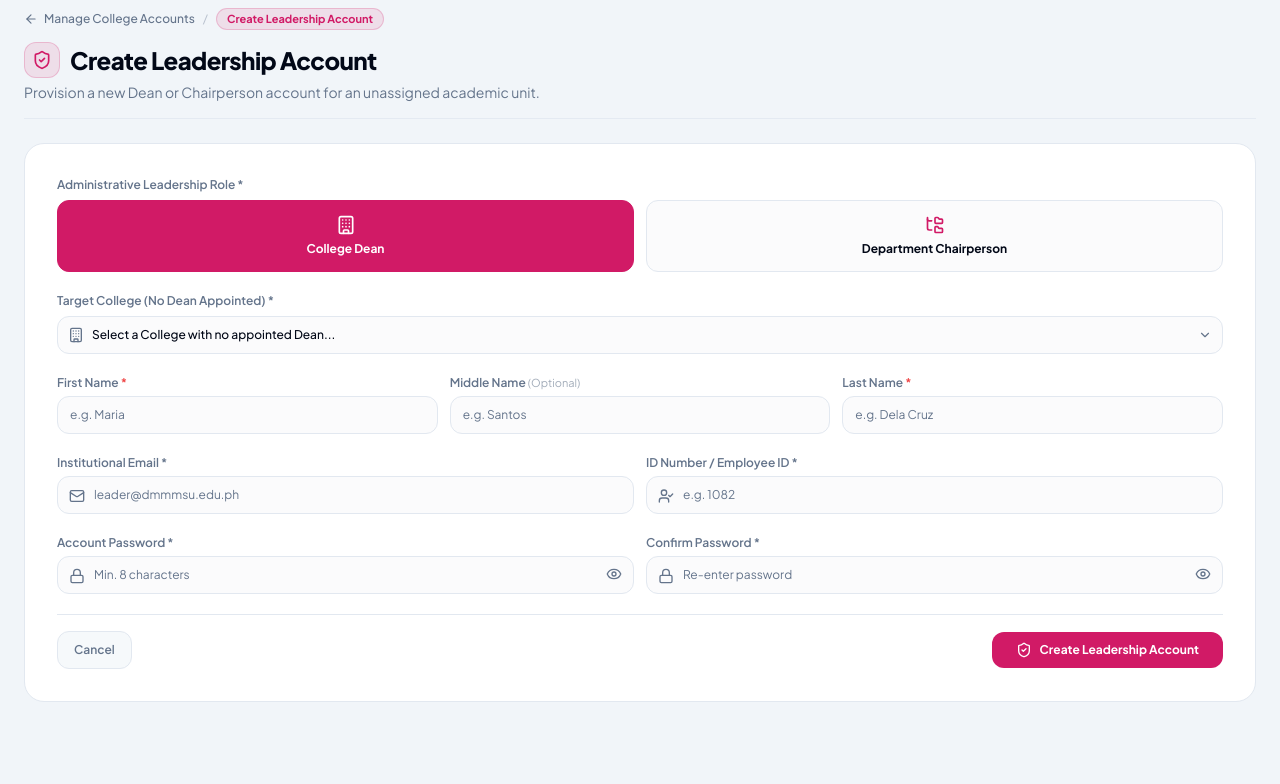
CreateLeadershipAccountPage › validates required fields before submitting
The image size is (1280, 784).
What coordinates should you click on to do the following:
click the button "Create Leadership Account"
I would click on:
 (1107, 650)
Its box is [992, 632, 1223, 668].
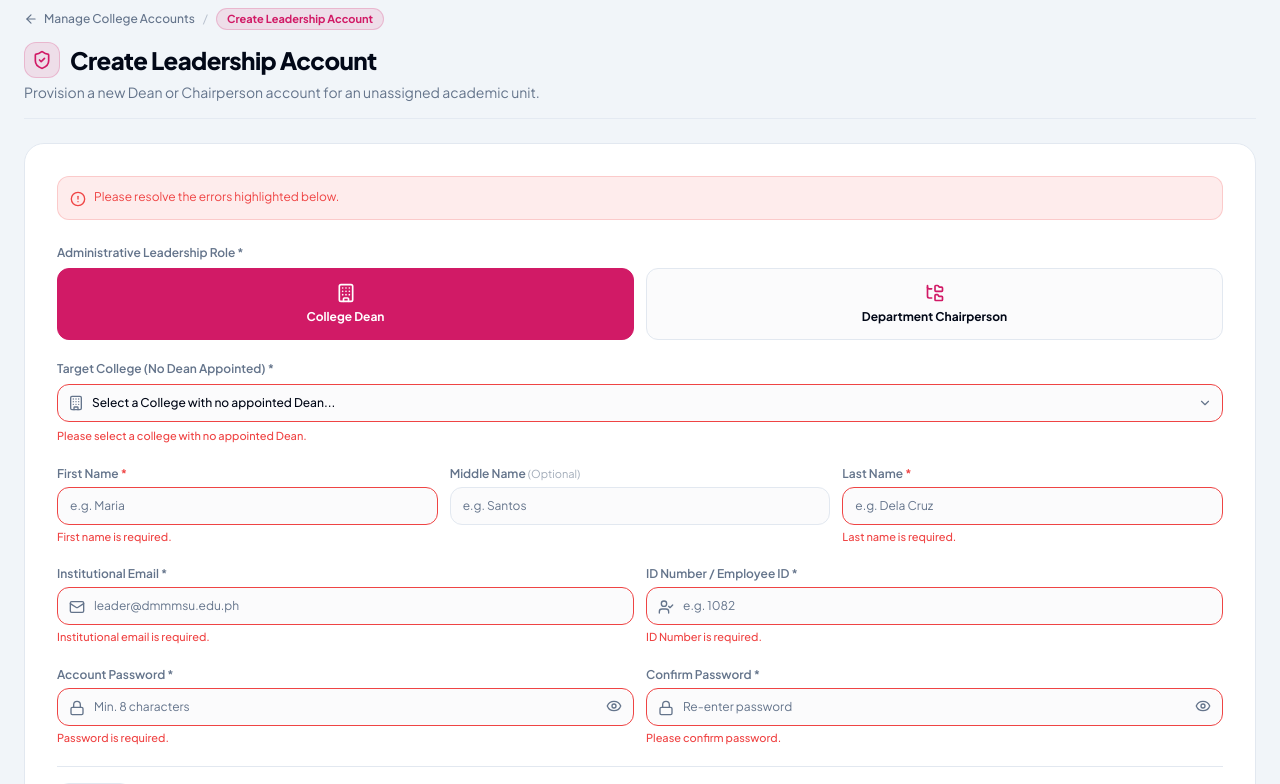
expect the text "Please resolve the errors highlighted below." is shown: met, box [94, 189, 339, 205]
expect the text "First name is required." is shown: met, box [57, 530, 172, 542]
expect the text "Last name is required." is shown: met, box [842, 530, 956, 542]
